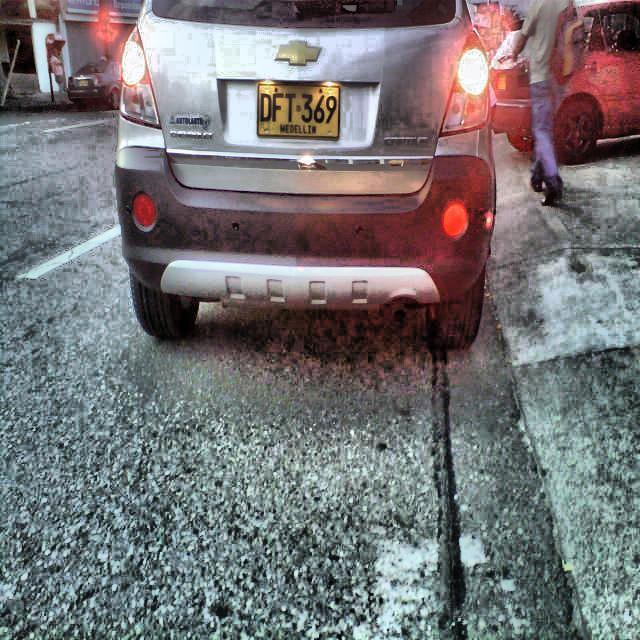plate: (256, 82, 341, 140)
